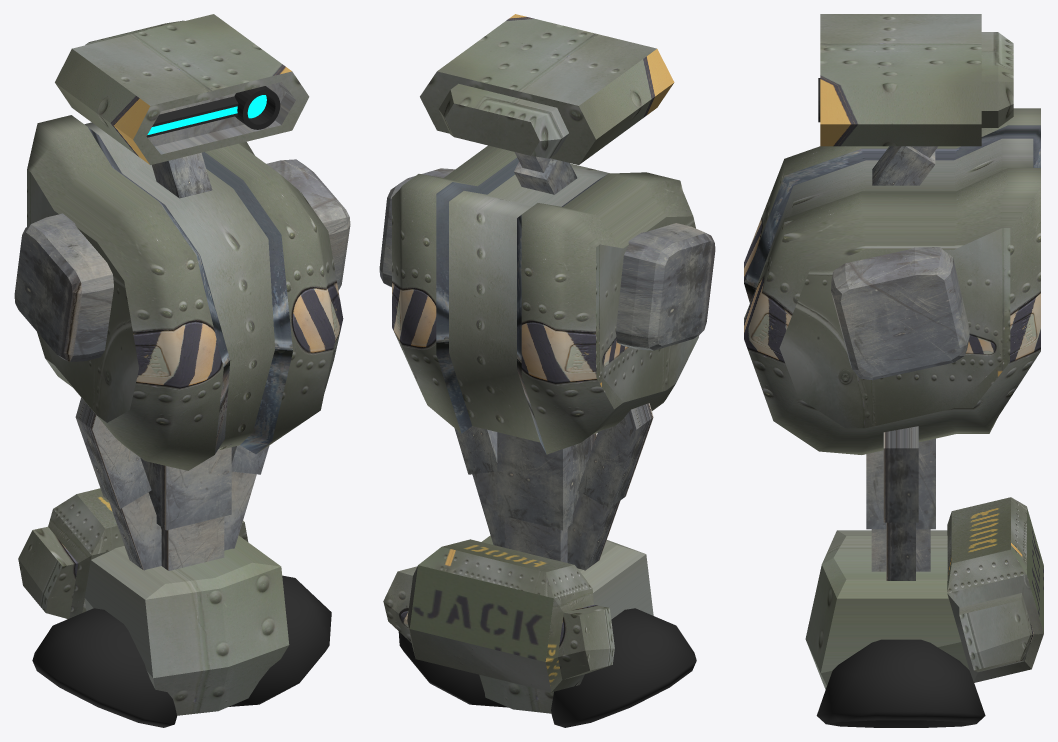
Rendered from robot 4 chasis and head.fbx.
3 renders of one model, left to right at view 1: azimuth 30°, elevation 25°; view 2: azimuth 150°, elevation 25°; view 3: azimuth 270°, elevation 25°, orthographic. The views are drawn at different scales.
Parts seen in each view (by area): view 1: Cube, Cube.031, Cube.001, Cube.002, Cube.014; view 2: Cube, Cube.031, Cube.001, Cube.002, Cube.014; view 3: Cube, Cube.031, Cube.001, Cube.002, Cube.014.
Part boxes in pixels (x1,y1,x2,y2): Cube: [14, 115, 350, 470]; Cube.031: [18, 488, 331, 727]; Cube.001: [55, 14, 309, 164]; Cube.002: [75, 397, 269, 570]; Cube.014: [152, 152, 212, 198]; Cube: [379, 145, 715, 454]; Cube.031: [383, 535, 696, 727]; Cube.001: [420, 14, 674, 164]; Cube.002: [454, 403, 653, 570]; Cube.014: [514, 152, 577, 194]; Cube: [744, 108, 1040, 454]; Cube.031: [805, 497, 1043, 727]; Cube.001: [818, 14, 1013, 146]; Cube.002: [866, 426, 935, 580]; Cube.014: [872, 146, 937, 185].
Bounding box in the file's own units: 272 × 605 × 247.
